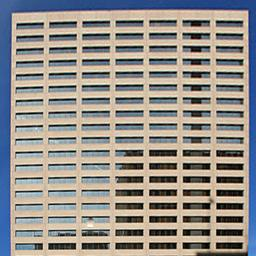building: (10, 7, 249, 256)
